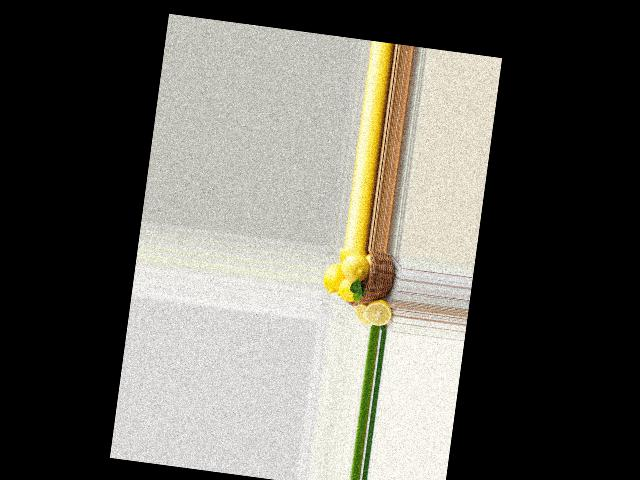lemon: (335, 274, 365, 305)
